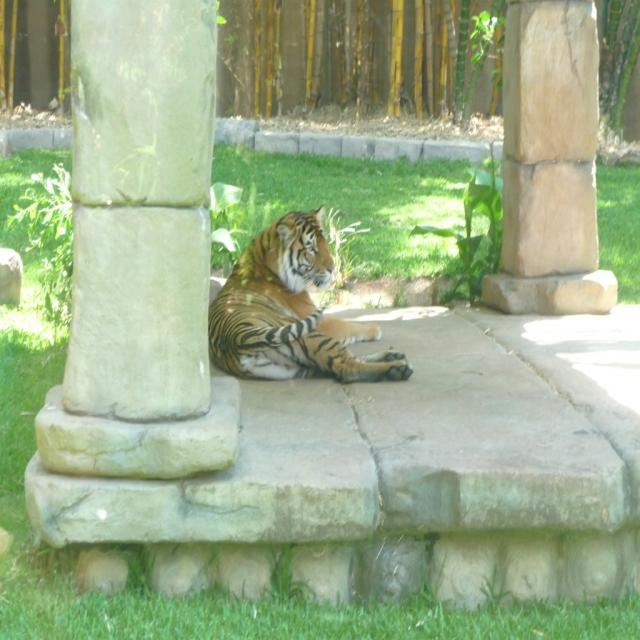Tiger: (208, 202, 412, 383)
